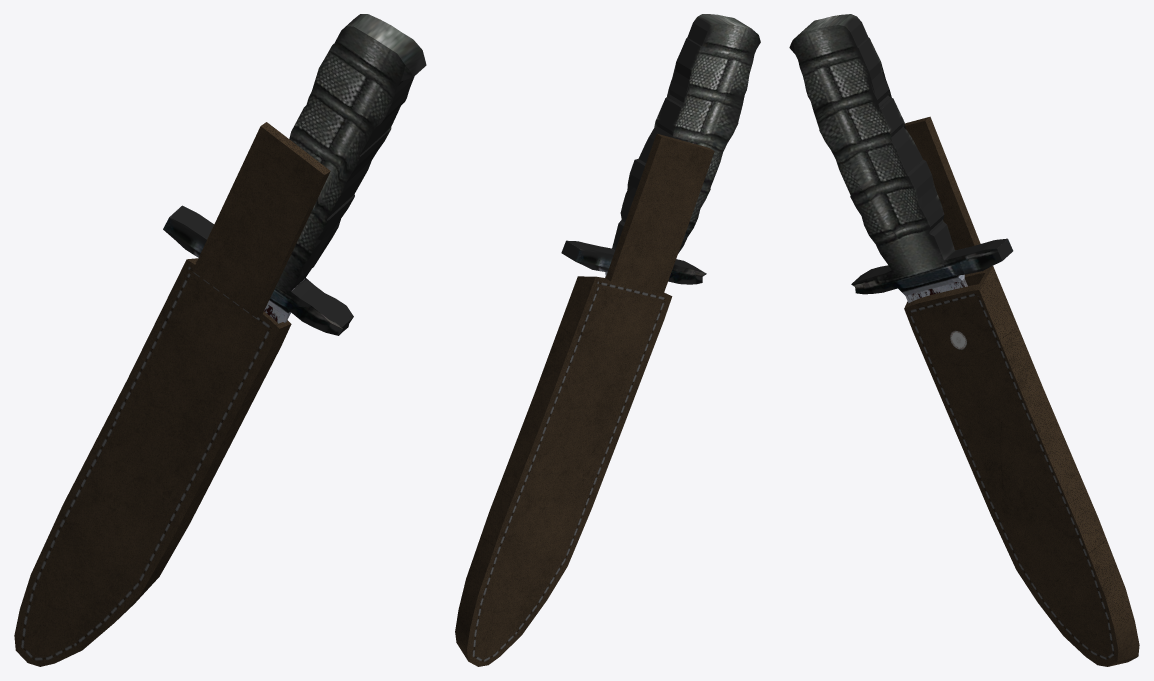
The model's file is idle 1.fbx.
The picture shows the model from 3 angles, left to right: view 1: azimuth 90°, elevation 25°; view 2: azimuth 150°, elevation 25°; view 3: azimuth 270°, elevation 25°; orthographic projection. The views are drawn at different scales.
Parts seen in each view (by area): view 1: BezierCurve.005; view 2: BezierCurve.005; view 3: BezierCurve.005.
Part boxes in pixels (<box>): BezierCurve.005: <box>14,14,426,666</box>; BezierCurve.005: <box>455,14,760,666</box>; BezierCurve.005: <box>789,14,1139,666</box>.
Bounding box in the file's own units: 324 × 1149 × 613.
3 materials, 3 textured.
